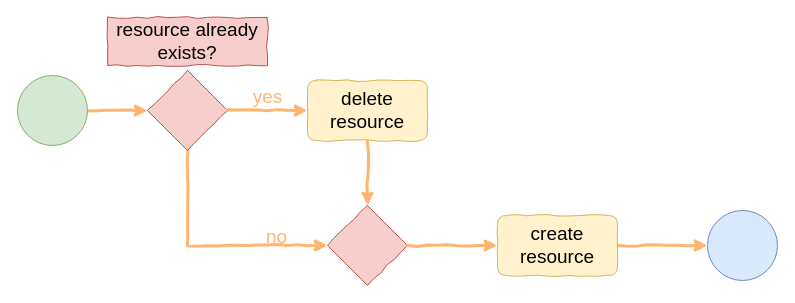
Some shapes in this 795 by 303 pixel diagram are drawn without their labels. Each missing label, with the centre of its shape:
"finish" goes at (x=742, y=245).
"start" goes at (x=52, y=110).
